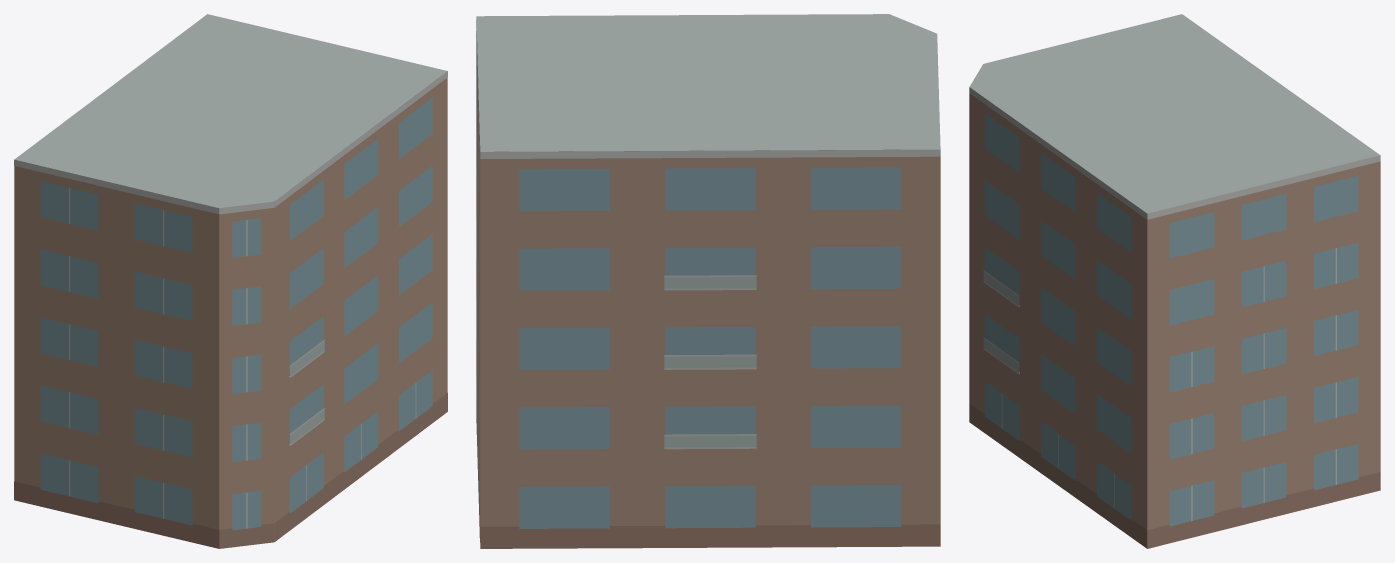
The model's file is survey-upis-32532056.glb.
3 views of the same model, side by side, from view 1: azimuth 30°, elevation 25°; view 2: azimuth 150°, elevation 25°; view 3: azimuth 270°, elevation 25° (orthographic). The views are drawn at different scales.
Parts seen in each view (by area): view 1: survey-upis-32532056.tmp; view 2: survey-upis-32532056.tmp; view 3: survey-upis-32532056.tmp.
Part boxes in pixels (x1,y1,x2,y2): survey-upis-32532056.tmp: [14, 14, 447, 548]; survey-upis-32532056.tmp: [476, 14, 940, 548]; survey-upis-32532056.tmp: [969, 14, 1380, 548].
Bounding box in the file's own units: 17.13 × 13.4 × 14.91.
